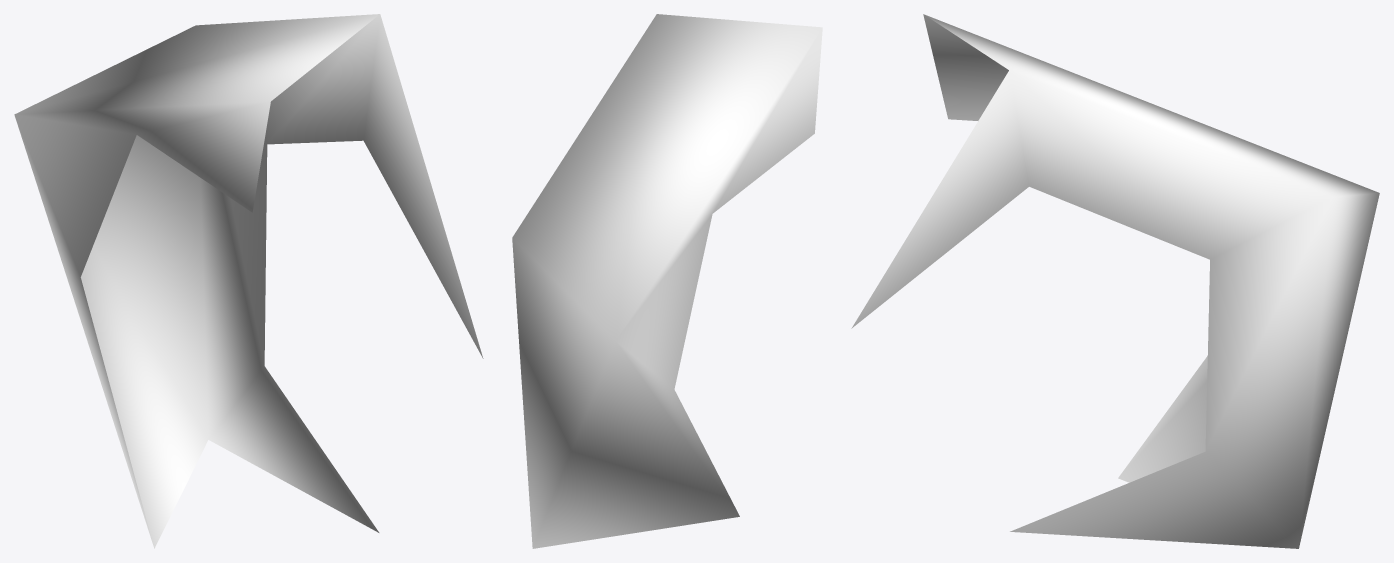
3 views of the same model, side by side, from view 1: azimuth 30°, elevation 25°; view 2: azimuth 150°, elevation 25°; view 3: azimuth 270°, elevation 25° (orthographic). The views are drawn at different scales.
Bounding box in the file's own units: 0.1763 × 0.5109 × 0.5074.
Materials: 1 (1 with a texture image).
